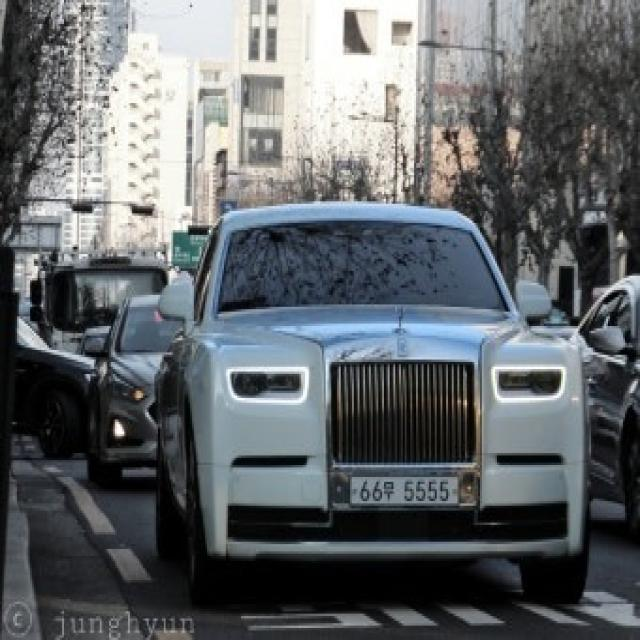car: (335, 464, 497, 525)
